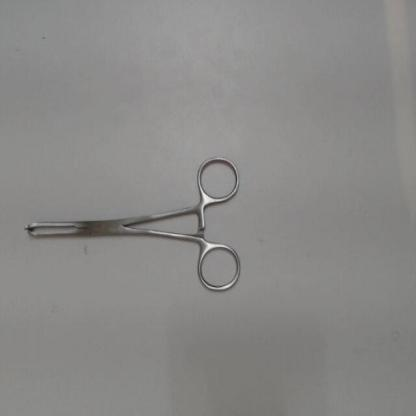Allis Tissue Forceps: (16, 149, 245, 302)
